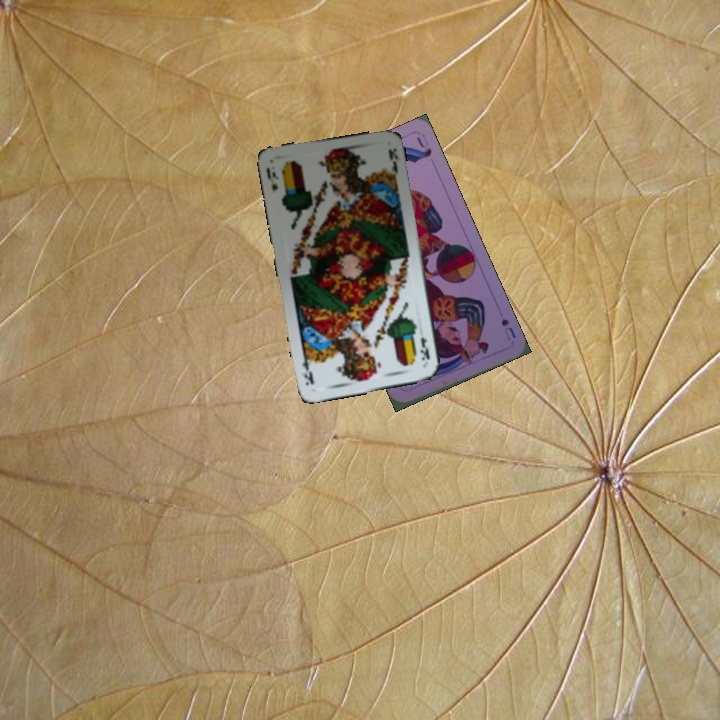EK: (262, 163, 281, 195), (416, 333, 432, 363)
SU: (497, 315, 518, 343)
